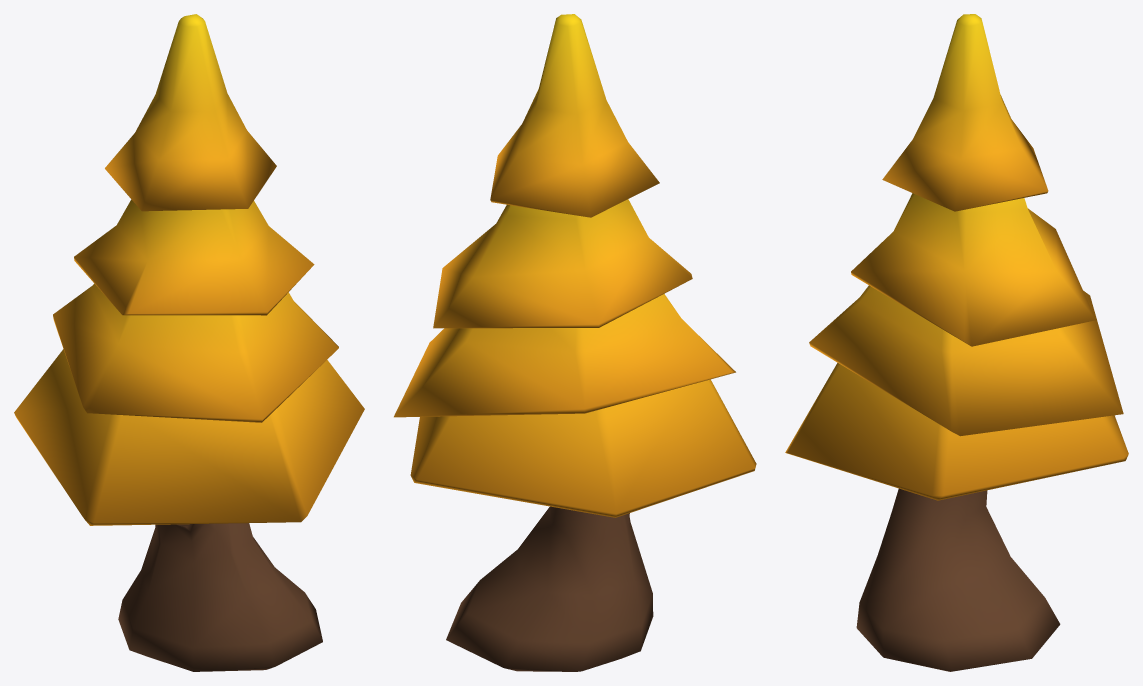
Rendered from Tree3.fbx.
The picture shows the model from 3 angles, left to right: view 1: azimuth 30°, elevation 25°; view 2: azimuth 150°, elevation 25°; view 3: azimuth 270°, elevation 25°; orthographic projection. The views are drawn at different scales.
Visible parts, largest first — view 1: Tree3; view 2: Tree3; view 3: Tree3.
Boxes of the visible parts, x1,y1,x2,y2 form: Tree3: (14,14,364,671); Tree3: (394,14,756,671); Tree3: (785,14,1128,671).
Size of the model in its own units: 324 by 649 by 328.
